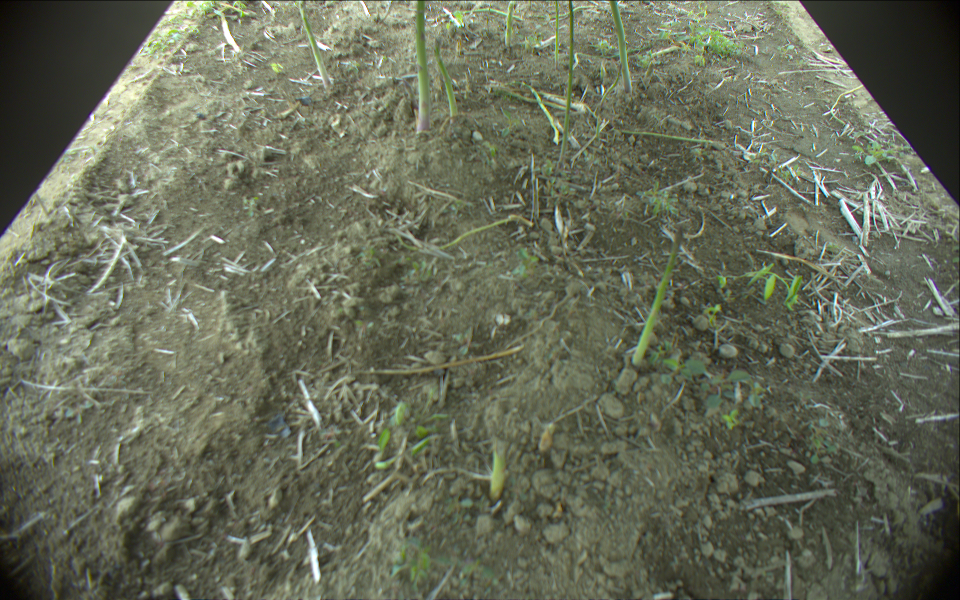aspa: (633, 228, 684, 368), (296, 1, 333, 89), (558, 1, 576, 167), (518, 80, 560, 142), (412, 1, 429, 130), (608, 1, 631, 92), (435, 36, 460, 118), (620, 127, 726, 144), (441, 1, 524, 21), (487, 437, 507, 501), (551, 1, 560, 64), (505, 1, 516, 46), (644, 61, 654, 84)
